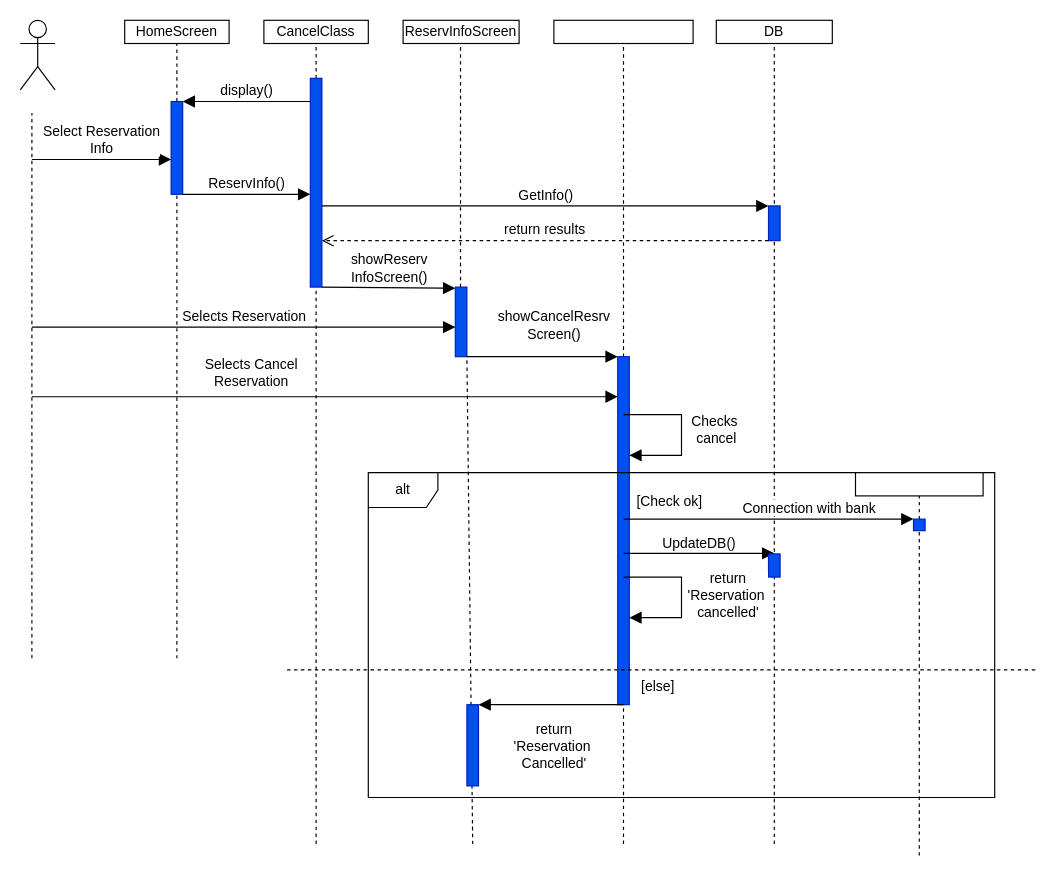
Some shapes in this 1057 by 877 pixel diagram are drawn without their labels. The centre of each missing label's shape, as x and y in pixels:
Actor: [37,54]
Bank: [918,484]
CancelReservScreen: [623,31]
